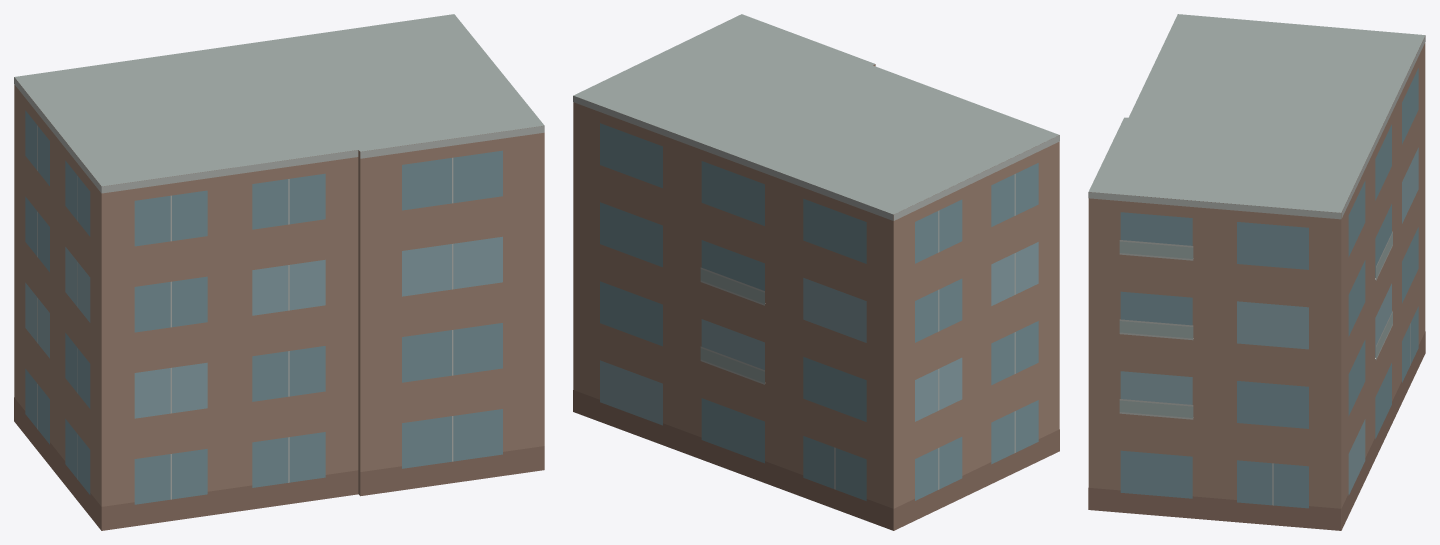
Rendered from survey-upis-32654064.glb.
3 renders of one model, left to right at view 1: azimuth 30°, elevation 25°; view 2: azimuth 150°, elevation 25°; view 3: azimuth 270°, elevation 25°, orthographic. The views are drawn at different scales.
Parts seen in each view (by area): view 1: survey-upis-32654064.tmp; view 2: survey-upis-32654064.tmp; view 3: survey-upis-32654064.tmp.
Boxes of the visible parts, bbox=[...] form: survey-upis-32654064.tmp: bbox=[14, 14, 544, 530]; survey-upis-32654064.tmp: bbox=[573, 14, 1059, 530]; survey-upis-32654064.tmp: bbox=[1088, 14, 1425, 530].
Size of the model in its own units: 15.97 by 11.9 by 11.44.
